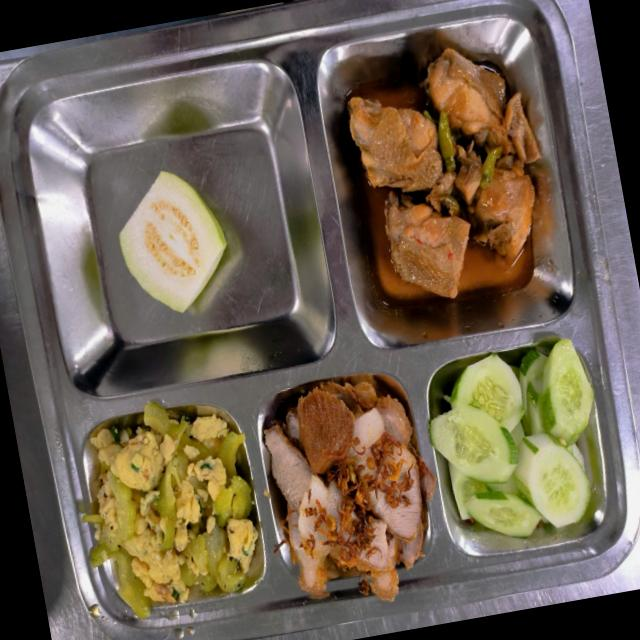dua leo: (430, 338, 593, 538)
ga kho: (348, 48, 540, 297)
kho qua: (82, 403, 258, 616)
oi: (119, 171, 226, 312)
